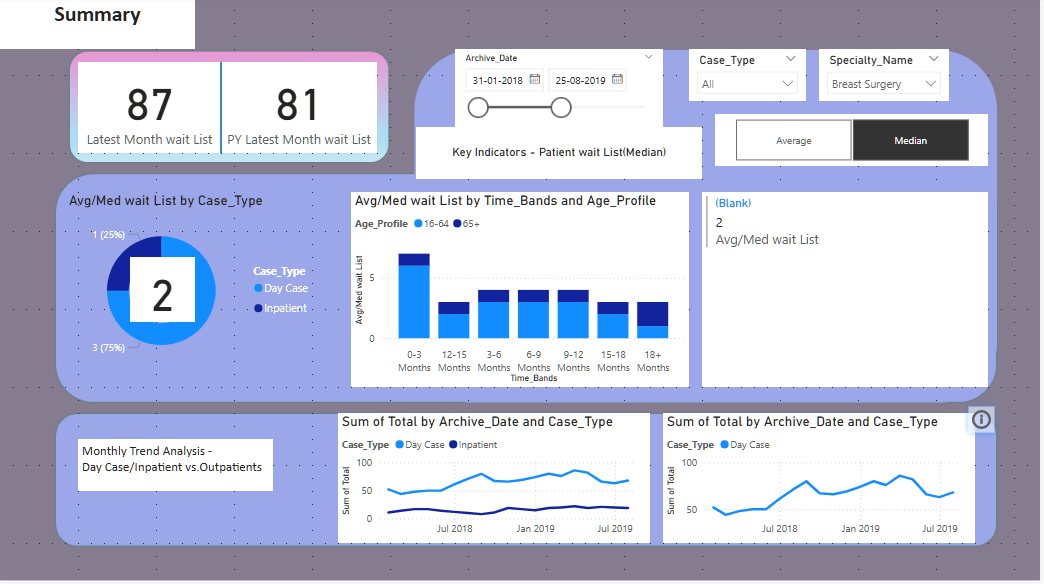

This screenshot's page, from the dashboard's own definition file:
{"tool":"powerbi","page":{"name":"Summary","canvas":[1280,720],"ordinal":0},"visuals":[{"type":"card","fields":{"Values":["All_Data.Latest Month wait List"]},"box":[96,80,176,112],"z":0},{"type":"card","fields":{"Values":["All_Data.PY Latest Month wait List"]},"box":[272,80,192,112],"z":1000},{"type":"slicer","fields":{"Values":["calc_Method.calc Method"]},"box":[880,144,336,64],"z":2000},{"type":"donutChart","fields":{"Category":["All_Data.Case_Type"],"Y":["All_Data.Avg/Med wait List"]},"box":[80,240,320,224],"z":3000},{"type":"columnChart","fields":{"Y":["All_Data.Avg/Med wait List"],"Series":["All_Data.Age_Profile"],"Category":["All_Data.Time_Bands"]},"box":[432,240,416,240],"z":4000},{"type":"card","fields":{"Values":["All_Data.NoDataLeft"]},"box":[512,544,240,96],"z":4500},{"type":"multiRowCard","fields":{"Values":["All_Data.Speciality_Name","All_Data.Avg/Med wait List"]},"box":[864,240,352,240],"z":5000},{"type":"card","fields":{"Values":["All_Data.NoDataRight"]},"box":[896,544,208,96],"z":6000},{"type":"lineChart","fields":{"Category":["All_Data.Archive_Date"],"Y":["Sum(All_Data.Total)"],"Series":["All_Data.Case_Type"]},"box":[816,512,384,160],"z":7000},{"type":"lineChart","fields":{"Category":["All_Data.Archive_Date"],"Y":["Sum(All_Data.Total)"],"Series":["All_Data.Case_Type"]},"box":[416,512,384,160],"z":8000},{"type":"slicer","fields":{"Values":["All_Data.Archive_Date"]},"box":[560,64,256,96],"z":9000},{"type":"slicer","fields":{"Values":["All_Data.Case_Type"]},"box":[848,64,144,64],"z":10000},{"type":"slicer","fields":{"Values":["All_Data.Specialty_Name"]},"box":[1008,64,160,64],"z":11000},{"type":"textbox","box":[0,0,240,64],"z":12000},{"type":"shape","box":[208,80,128,112],"z":13000},{"type":"card","fields":{"Values":["All_Data.Avg/Med wait List"]},"box":[160,320,80,80],"z":14000},{"type":"card","fields":{"Values":["All_Data.Dynamin Title"]},"box":[512,160,352,64],"z":15000},{"type":"textbox","box":[96,544,240,64],"z":16000},{"type":"actionButton","box":[1184,496,48,48],"z":16001}]}

Visuals, with their boxes in screenshot pixels (x1, y1, x2, y2), scaled from the page's 1280x720 canvas onto the 1044x584 screenshot:
card - All_Data.Latest Month wait List: x1=78, y1=65, x2=222, y2=156
card - All_Data.PY Latest Month wait List: x1=222, y1=65, x2=378, y2=156
slicer - calc_Method.calc Method: x1=718, y1=117, x2=992, y2=169
donutChart - All_Data.Case_Type x All_Data.Avg/Med wait List: x1=65, y1=195, x2=326, y2=376
columnChart - All_Data.Avg/Med wait List x All_Data.Age_Profile: x1=352, y1=195, x2=692, y2=389
card - All_Data.NoDataLeft: x1=418, y1=441, x2=613, y2=519
multiRowCard - All_Data.Speciality_Name x All_Data.Avg/Med wait List: x1=705, y1=195, x2=992, y2=389
card - All_Data.NoDataRight: x1=731, y1=441, x2=900, y2=519
lineChart - All_Data.Archive_Date x Sum(All_Data.Total): x1=666, y1=415, x2=979, y2=545
lineChart - All_Data.Archive_Date x Sum(All_Data.Total): x1=339, y1=415, x2=652, y2=545
slicer - All_Data.Archive_Date: x1=457, y1=52, x2=666, y2=130
slicer - All_Data.Case_Type: x1=692, y1=52, x2=809, y2=104
slicer - All_Data.Specialty_Name: x1=822, y1=52, x2=953, y2=104
textbox: x1=0, y1=0, x2=196, y2=52
shape: x1=170, y1=65, x2=274, y2=156
card - All_Data.Avg/Med wait List: x1=130, y1=260, x2=196, y2=324
card - All_Data.Dynamin Title: x1=418, y1=130, x2=705, y2=182
textbox: x1=78, y1=441, x2=274, y2=493
actionButton: x1=966, y1=402, x2=1005, y2=441
